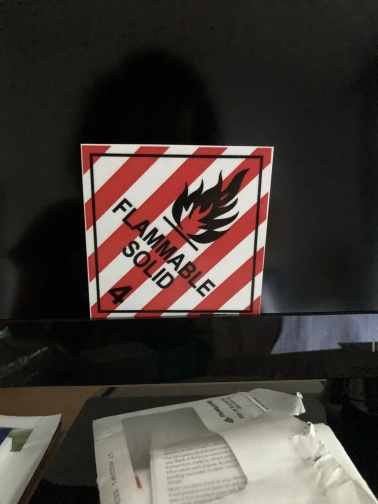FlammableSolid: (87, 149, 255, 317)
